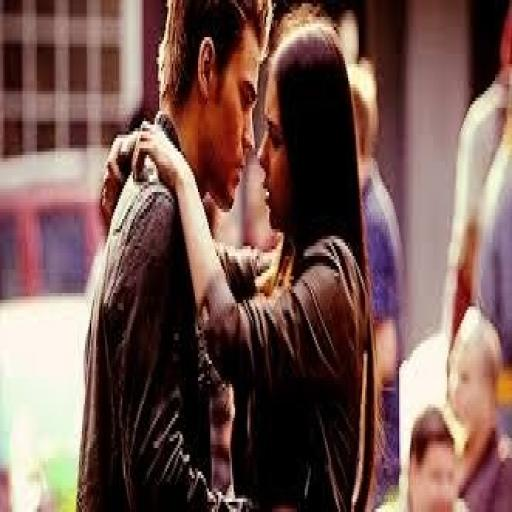hugging: (124, 16, 379, 508), (74, 3, 276, 509)
